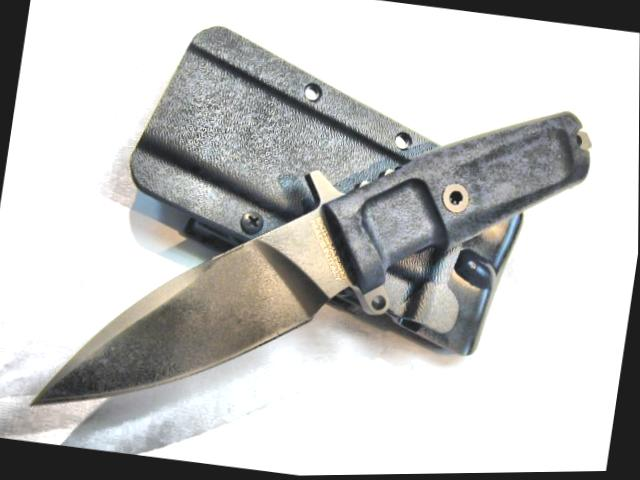knife: (25, 168, 360, 452)
